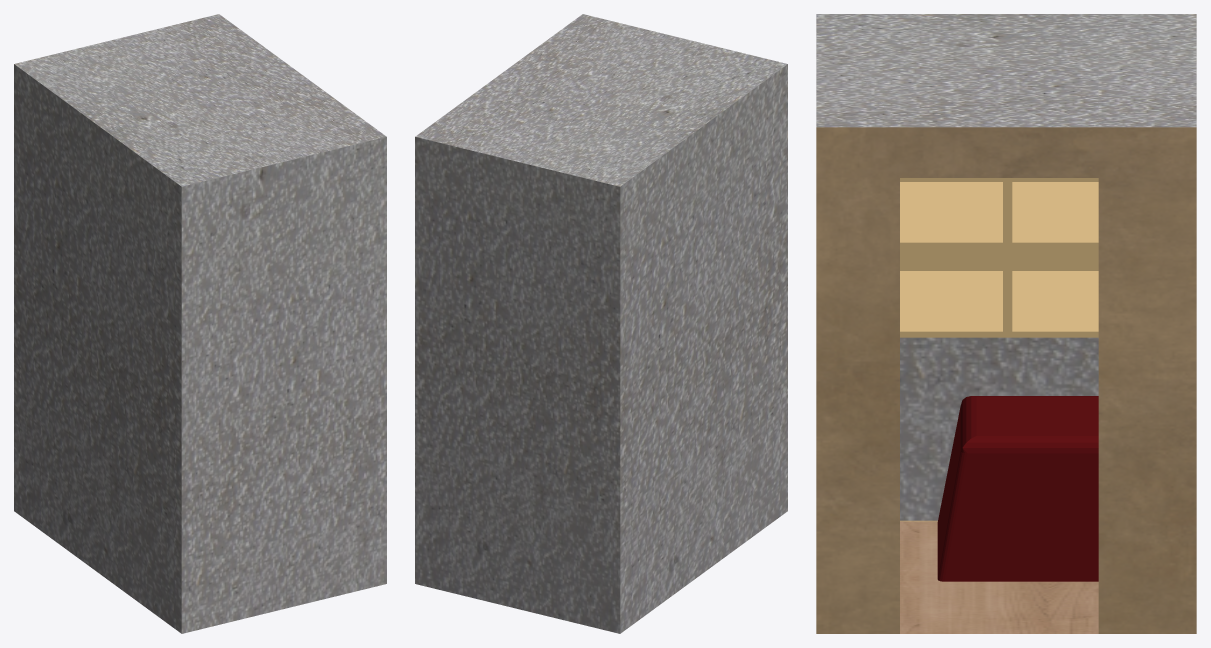
Rendered from hotpress.fbx.
3 renders of one model, left to right at view 1: azimuth 30°, elevation 25°; view 2: azimuth 150°, elevation 25°; view 3: azimuth 270°, elevation 25°, orthographic. The views are drawn at different scales.
Parts seen in each view (by area): view 1: Cube; view 2: Cube; view 3: Cube, Cube.001, mesh_1729371408, mesh_338693900, mesh_279274495, mesh_907665417, mesh_960615600, mesh_542023393, mesh_697472426, mesh_1375037183.
Part boxes in pixels (x1=…): Cube: x1=14, y1=14, x2=386, y2=633; Cube: x1=415, y1=14, x2=787, y2=633; Cube: x1=816, y1=14, x2=1196, y2=633; Cube.001: x1=937, y1=396, x2=1098, y2=581; mesh_1729371408: x1=900, y1=271, x2=1002, y2=337; mesh_338693900: x1=900, y1=182, x2=1002, y2=248; mesh_279274495: x1=1012, y1=182, x2=1098, y2=248; mesh_907665417: x1=1012, y1=271, x2=1098, y2=337; mesh_960615600: x1=900, y1=178, x2=1002, y2=270; mesh_542023393: x1=1012, y1=178, x2=1098, y2=270; mesh_697472426: x1=1007, y1=178, x2=1012, y2=337; mesh_1375037183: x1=1003, y1=178, x2=1007, y2=337.
Bounding box in the file's own units: 600 × 1250 × 850.
